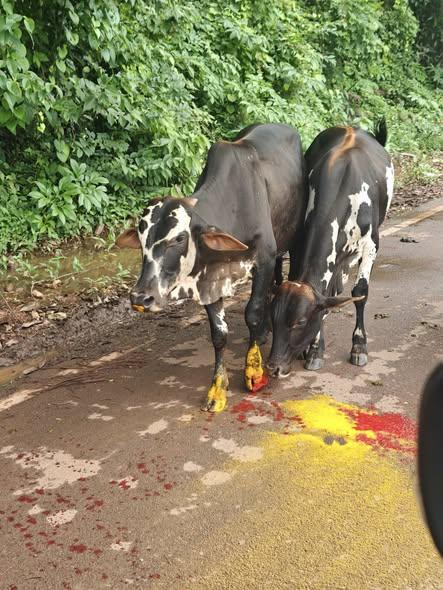bleeding: (230, 342, 285, 401)
